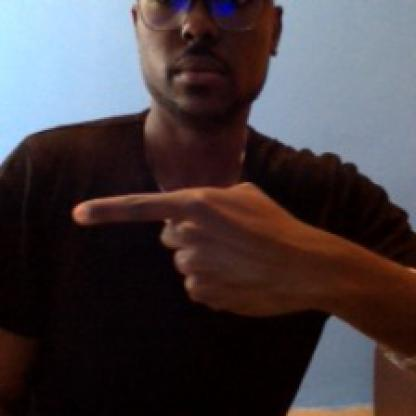TURN RIGHT: (55, 166, 370, 338)
